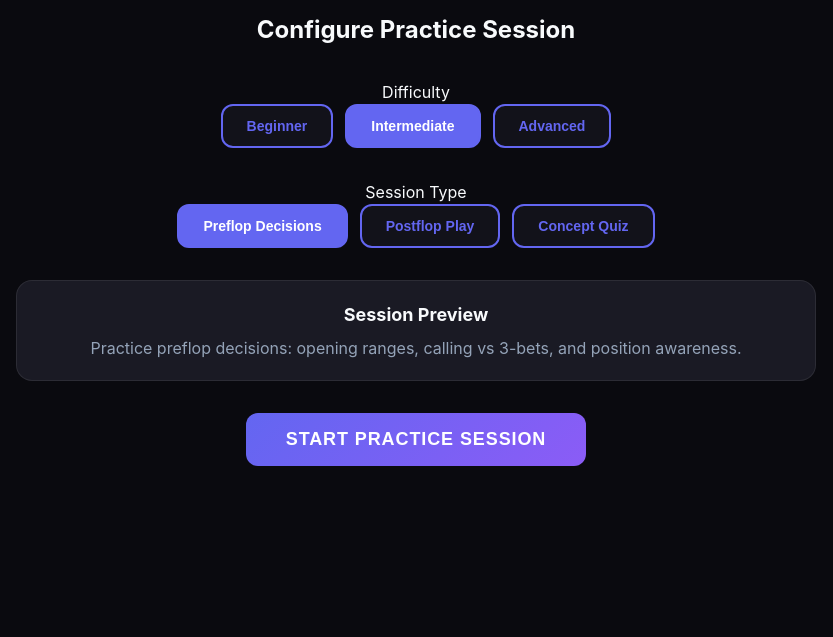
Scenario: PracticeSession › Quiz Mode › should render quiz question for quiz session type
The width and height of the screenshot is (833, 637).
Click the button "Concept Quiz".
click(584, 226)  # box [512,204,655,248]
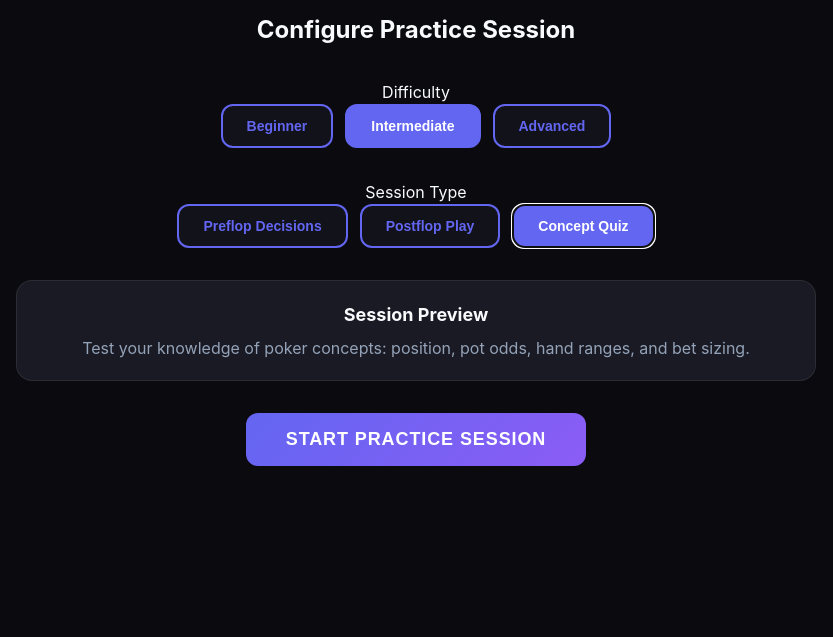
Click the button "Start Practice Session".
click(416, 440)  # box [246,413,586,466]
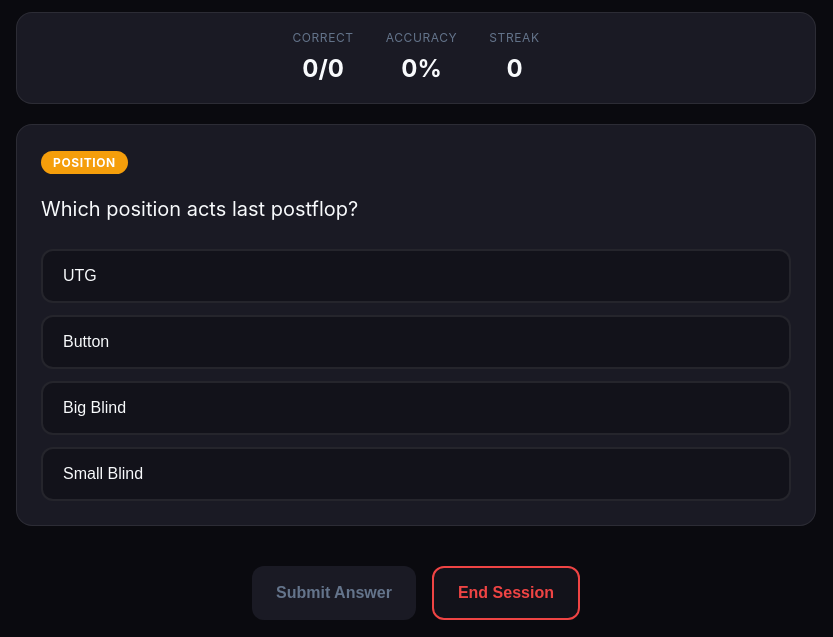
Result: the text "Which position acts last postflop?" is shown at [41,197,358,221]
Result: the button "UTG" is shown at [41,249,791,303]
Result: the button "Button" is shown at [41,315,791,369]
